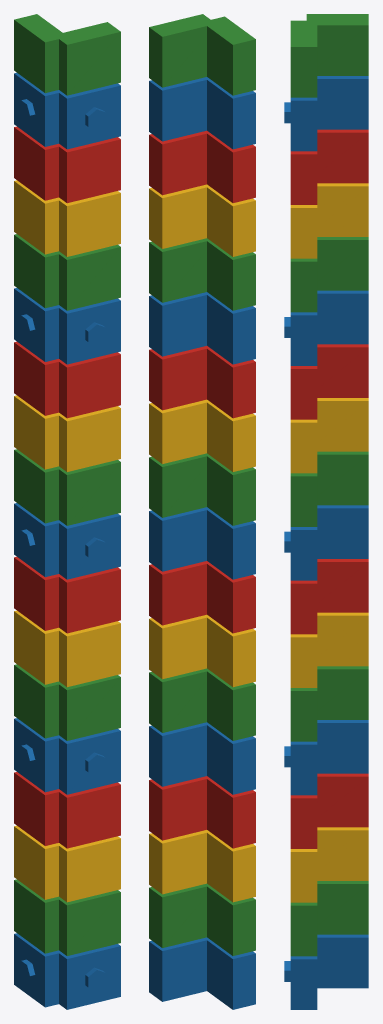
File: quoin-column.fbx
3 renders of one model, left to right at view 1: azimuth 30°, elevation 25°; view 2: azimuth 210°, elevation 25°; view 3: azimuth 270°, elevation 25°, orthographic.
Visible parts, largest first — view 1: quoin-column; view 2: quoin-column; view 3: quoin-column.
Part boxes in pixels (x1,y1,x2,y2): quoin-column: (14, 14, 120, 1009); quoin-column: (149, 14, 255, 1009); quoin-column: (284, 14, 368, 1009).
Size of the model in its own units: 475 by 5982 by 475.
1 material, 1 textured.
